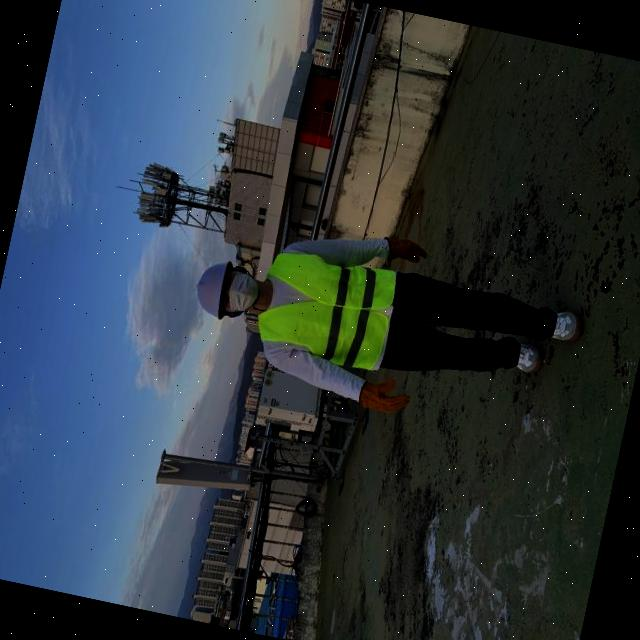boots: (510, 339, 548, 374), (548, 310, 584, 342)
helmet: (186, 250, 239, 330)
vest: (248, 241, 407, 375)
